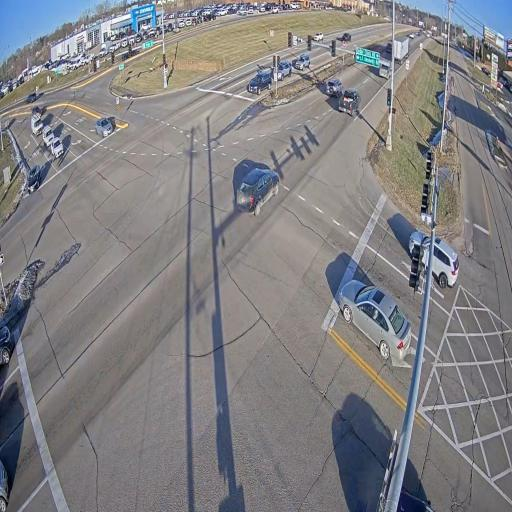pickup: (338, 89, 360, 116), (379, 60, 391, 79), (386, 42, 392, 53)
sedan: (28, 165, 41, 193), (95, 118, 114, 137), (51, 137, 63, 157), (313, 32, 323, 41)
suv: (338, 279, 410, 360), (237, 168, 279, 215), (433, 236, 459, 287), (409, 230, 430, 265), (246, 72, 272, 95), (0, 326, 14, 365), (326, 79, 343, 97), (277, 61, 292, 80), (295, 54, 310, 70), (43, 126, 54, 146), (26, 92, 36, 103), (341, 33, 351, 42), (409, 33, 414, 38), (416, 31, 421, 36)
truck: (393, 36, 409, 64)
van: (31, 116, 43, 136)
